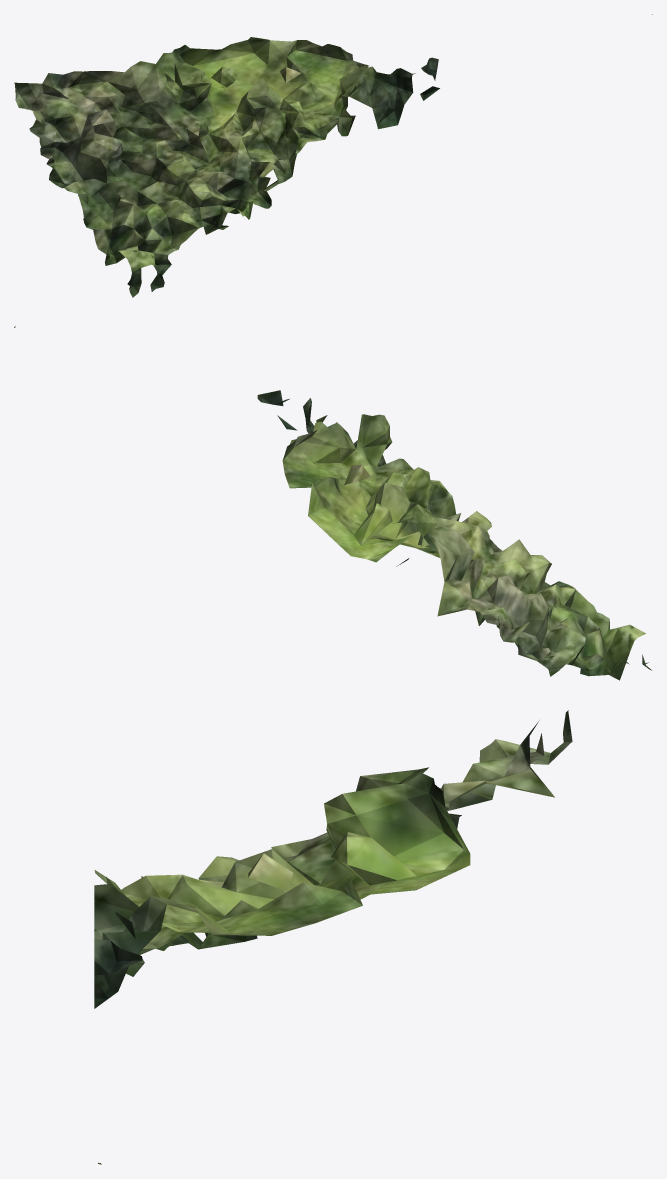
The picture shows the model from 3 angles, top to bottom: view 1: azimuth 30°, elevation 25°; view 2: azimuth 150°, elevation 25°; view 3: azimuth 270°, elevation 25°; orthographic projection. The views are drawn at different scales.
Bounding box in the file's own units: 208 × 59.25 × 82.59.
1 material, 1 textured.
